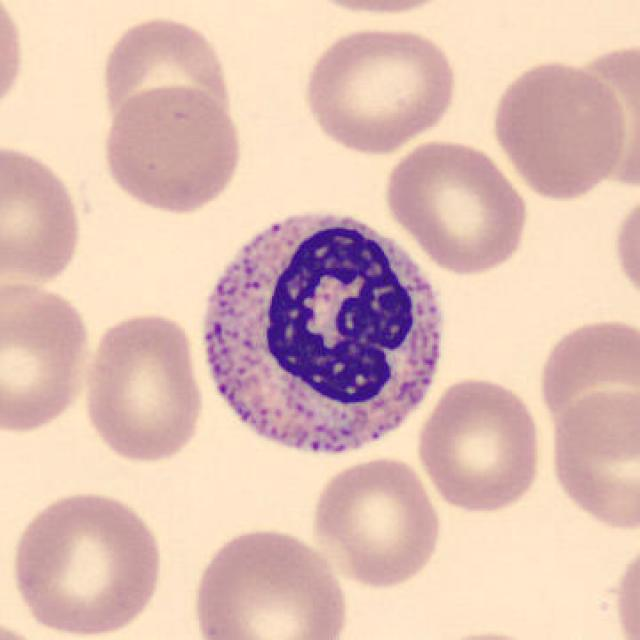Neutrophil: (188, 194, 458, 474), (190, 194, 457, 476)
RBC: (9, 485, 167, 640), (297, 21, 460, 157), (381, 134, 532, 277), (487, 54, 631, 202), (78, 308, 208, 466), (96, 81, 245, 217), (188, 522, 354, 640), (412, 372, 546, 517), (308, 453, 444, 591), (94, 11, 238, 139), (0, 277, 96, 435), (534, 310, 638, 452), (544, 384, 638, 536), (0, 139, 87, 289), (610, 184, 640, 310), (0, 0, 28, 123), (290, 0, 466, 19), (610, 532, 640, 640), (418, 626, 558, 640), (0, 613, 62, 640)
